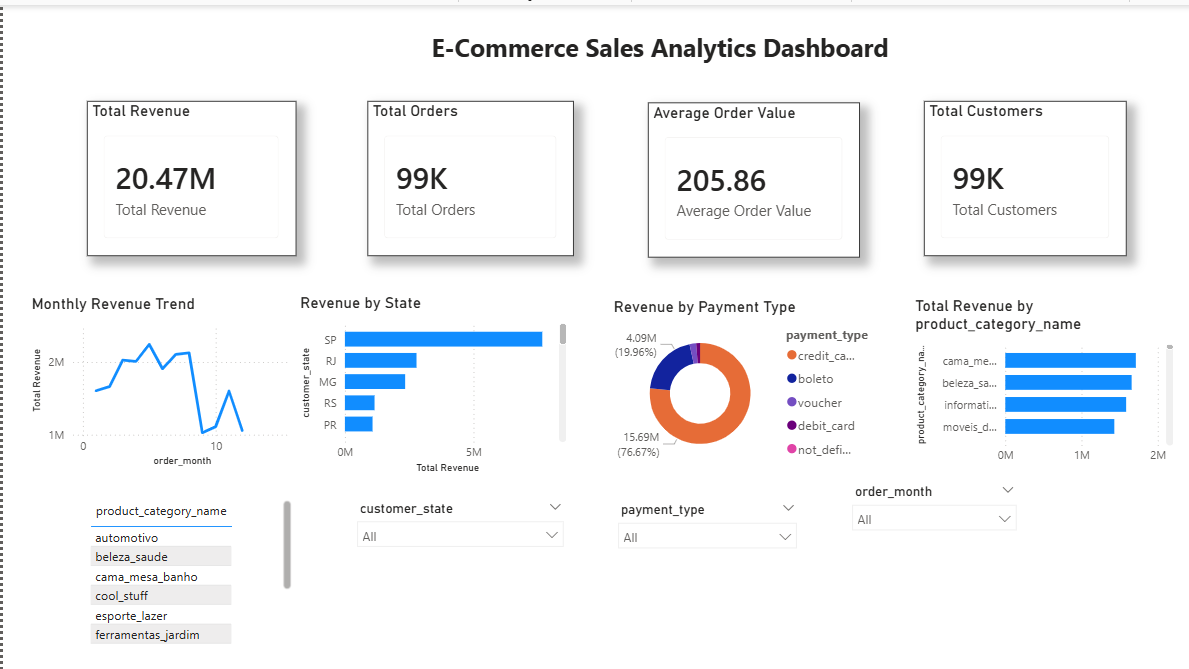

The page's visual inventory and layout, read from the dashboard file:
{"tool":"powerbi","page":{"name":"Executive Overview","canvas":[1280,720],"ordinal":0},"visuals":[{"type":"textbox","box":[424.3,22.9,570,58.6],"z":0},{"type":"cardVisual","title":"Total Revenue","fields":{"Data":["ecommerce_data.Total Revenue"]},"box":[90,104.3,225.7,167.1],"z":1000},{"type":"cardVisual","title":"Total Orders","fields":{"Data":["ecommerce_data.Total Orders"]},"box":[392.9,104.3,222.9,167.1],"z":2000},{"type":"cardVisual","title":"Average Order Value","fields":{"Data":["ecommerce_data.Average Order Value"]},"box":[695.7,105.7,228.6,167.1],"z":3000},{"type":"cardVisual","title":"Total Customers","fields":{"Data":["ecommerce_data.Total Customers"]},"box":[994.3,104.3,218.6,167.1],"z":4000},{"type":"lineChart","title":"Monthly Revenue Trend","fields":{"Category":["ecommerce_data.order_month"],"Y":["ecommerce_data.Total Revenue"]},"box":[25.7,312.9,290,190],"z":5000},{"type":"donutChart","title":"Revenue by Payment Type","fields":{"Category":["ecommerce_data.payment_type"],"Y":["ecommerce_data.Total Revenue"]},"box":[654.3,315.7,290,187.1],"z":6000},{"type":"clusteredBarChart","title":"Revenue by State","fields":{"Category":["ecommerce_data.customer_state"],"Y":["ecommerce_data.Total Revenue"]},"box":[315.7,311.4,297.1,198.6],"z":7000},{"type":"clusteredBarChart","fields":{"Category":["ecommerce_data.product_category_name"],"Y":["ecommerce_data.Total Revenue"]},"box":[980,314.3,288.6,190],"z":8000},{"type":"tableEx","fields":{"Values":["ecommerce_data.product_category_name"]},"box":[88.6,530,227.1,167.1],"z":9000},{"type":"slicer","fields":{"Values":["ecommerce_data.customer_state"]},"box":[372.9,530,242.9,167.1],"z":10000},{"type":"slicer","fields":{"Values":["ecommerce_data.payment_type"]},"box":[654.3,531.4,212.9,167.1],"z":11000},{"type":"slicer","fields":{"Values":["ecommerce_data.order_month"]},"box":[907.1,511.4,197.1,165.7],"z":12000}]}

Visuals, with their boxes in screenshot pixels (x1, y1, x2, y2), scaled from the page's 1280x720 canvas onto the 1189x669 screenshot:
textbox: 394,21,924,76
"Total Revenue" cardVisual: 84,97,293,252
"Total Orders" cardVisual: 365,97,572,252
"Average Order Value" cardVisual: 646,98,859,253
"Total Customers" cardVisual: 924,97,1127,252
"Monthly Revenue Trend" lineChart: 24,291,293,467
"Revenue by Payment Type" donutChart: 608,293,877,467
"Revenue by State" clusteredBarChart: 293,289,569,474
clusteredBarChart - ecommerce_data.product_category_name x ecommerce_data.Total Revenue: 910,292,1178,469
tableEx - ecommerce_data.product_category_name: 82,492,293,648
slicer - ecommerce_data.customer_state: 346,492,572,648
slicer - ecommerce_data.payment_type: 608,494,806,649
slicer - ecommerce_data.order_month: 843,475,1026,629
